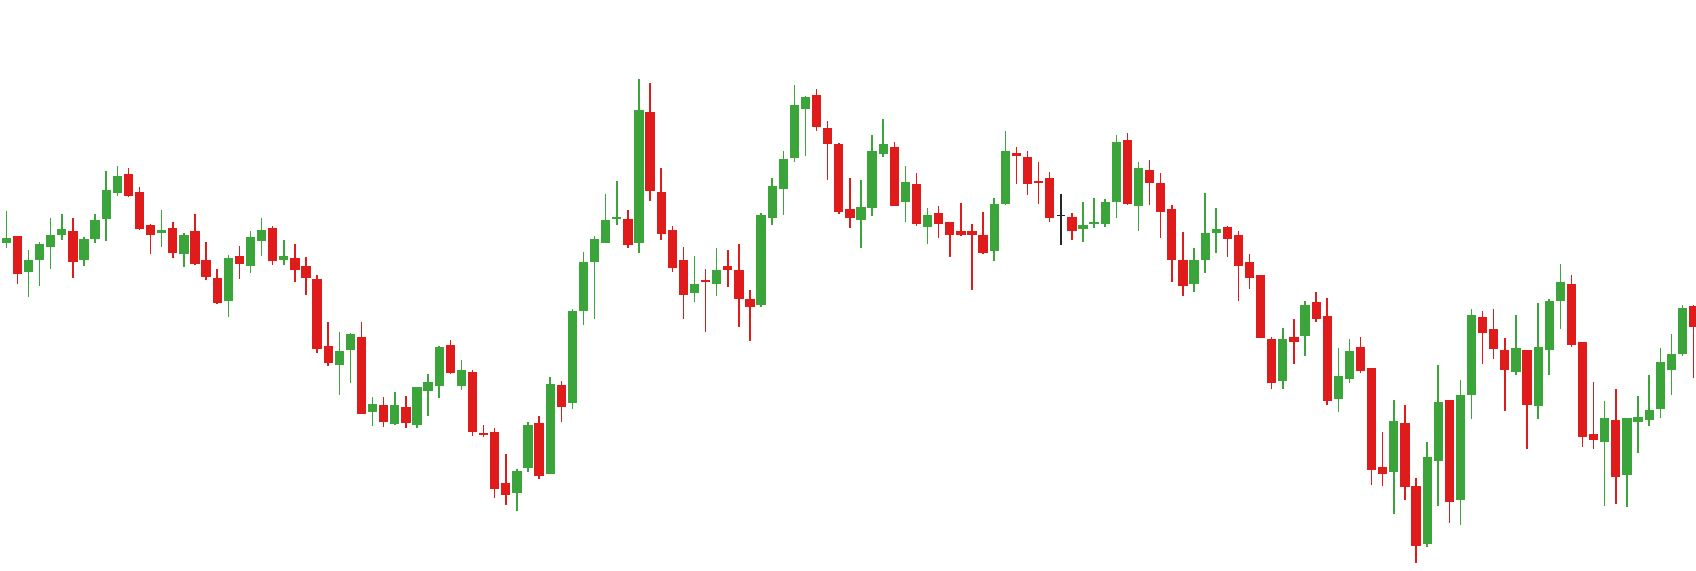sell: (1466, 265, 1575, 377)
